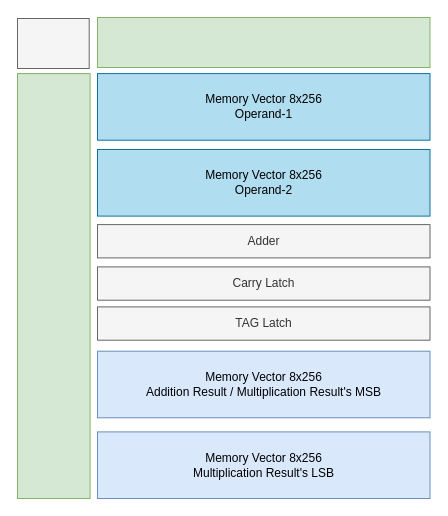
The diagram is 448 pixels wide and 516 high, and some of its shapes have lost their labels. The centre of each missing label's shape, as x and y in pixels:
Column Decoder 8:256: [263,42]
Control Unit: [52,43]
Row Decoder 2:4: [53,285]
